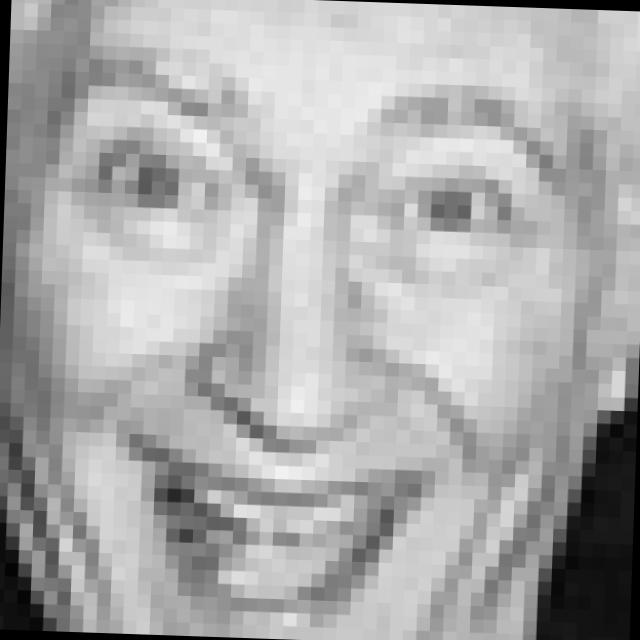happy: (20, 51, 562, 640)
